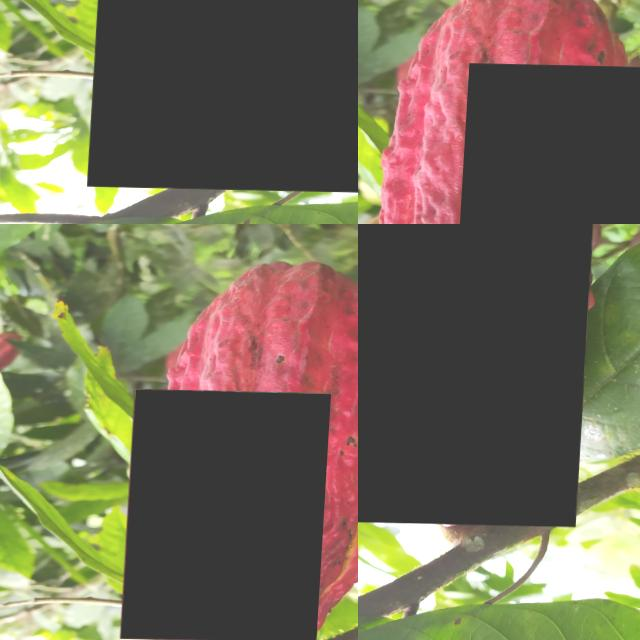Sana: (358, 224, 599, 524), (125, 388, 332, 640), (93, 0, 358, 191), (456, 61, 640, 224)
